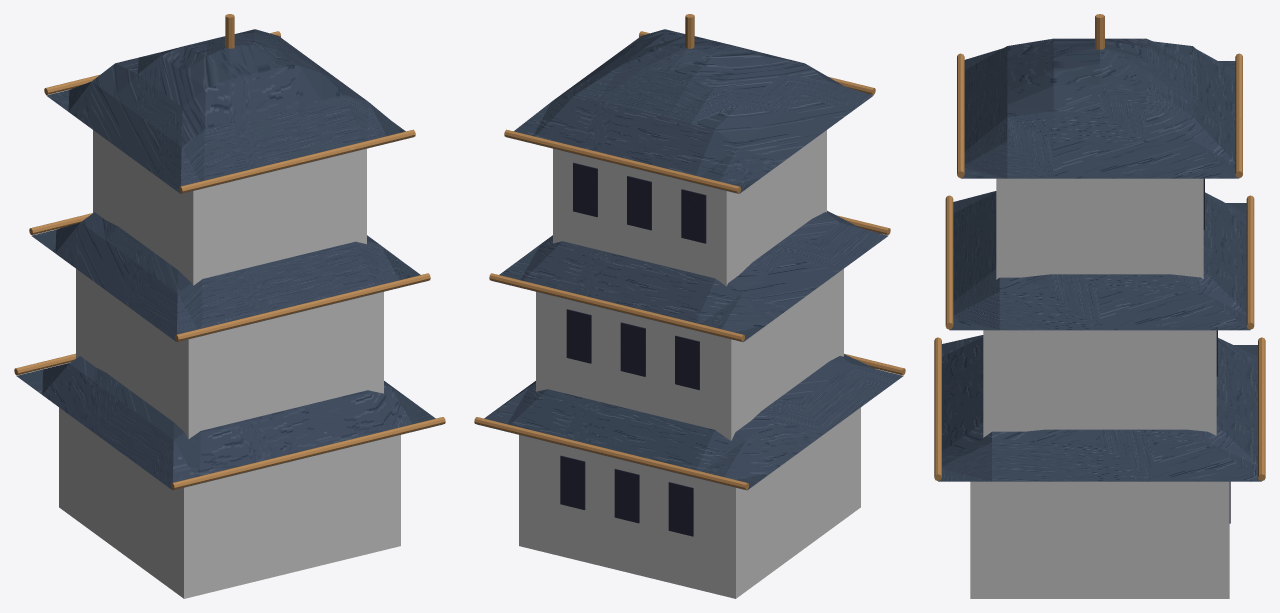
Rendered from shogun_pagoda_watchtower.obj.
3 views of the same model, side by side, from view 1: azimuth 30°, elevation 25°; view 2: azimuth 150°, elevation 25°; view 3: azimuth 270°, elevation 25° (orthographic). The views are drawn at different scales.
Visible parts, largest first — view 1: geometry_0, geometry_27, geometry_11, geometry_22, geometry_5, geometry_16, geometry_7, geometry_18, geometry_29; view 2: geometry_0, geometry_27, geometry_11, geometry_22, geometry_5, geometry_16, geometry_6, geometry_17, geometry_28, geometry_21, geometry_8, geometry_9 (+6 smaller); view 3: geometry_27, geometry_0, geometry_5, geometry_11, geometry_16, geometry_22, geometry_17, geometry_18, geometry_6, geometry_7, geometry_28, geometry_29.
Part boxes in pixels (box(x1,y1,x2,y2)): geometry_0: box(59, 407, 400, 598); geometry_27: box(46, 29, 413, 193); geometry_11: box(76, 269, 383, 438); geometry_22: box(93, 130, 366, 285); geometry_5: box(16, 356, 442, 490); geometry_16: box(31, 212, 428, 341); geometry_7: box(171, 417, 445, 489); geometry_18: box(175, 273, 430, 341); geometry_29: box(179, 129, 415, 193); geometry_0: box(519, 407, 860, 598); geometry_27: box(506, 29, 873, 193); geometry_11: box(536, 269, 843, 440); geometry_22: box(553, 130, 826, 286); geometry_5: box(477, 354, 903, 490); geometry_16: box(491, 210, 888, 341); geometry_6: box(474, 417, 748, 489); geometry_17: box(489, 273, 744, 341); geometry_28: box(504, 129, 740, 193); geometry_21: box(566, 309, 591, 363); geometry_8: box(668, 482, 693, 536); geometry_9: box(614, 469, 639, 523); geometry_27: box(960, 38, 1239, 178); geometry_0: box(970, 481, 1229, 598); geometry_5: box(938, 335, 1261, 481); geometry_11: box(983, 330, 1216, 437); geometry_16: box(949, 191, 1250, 330); geometry_22: box(996, 178, 1203, 279); geometry_17: box(1246, 195, 1254, 329); geometry_18: box(945, 195, 953, 329); geometry_6: box(1258, 337, 1265, 480); geometry_7: box(934, 337, 941, 480); geometry_28: box(1235, 53, 1242, 177); geometry_29: box(957, 53, 964, 177).
Bounding box in the file's own units: 10 × 18 × 10.24.
